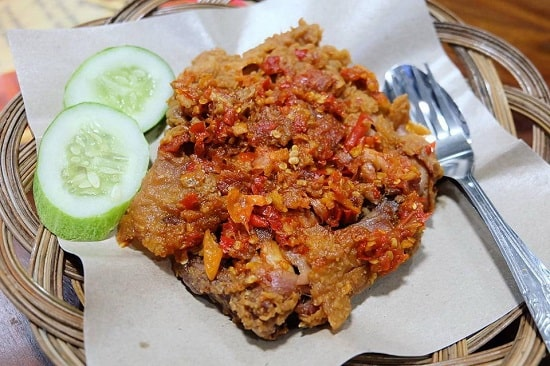ayam_geprek: (119, 20, 451, 346)
